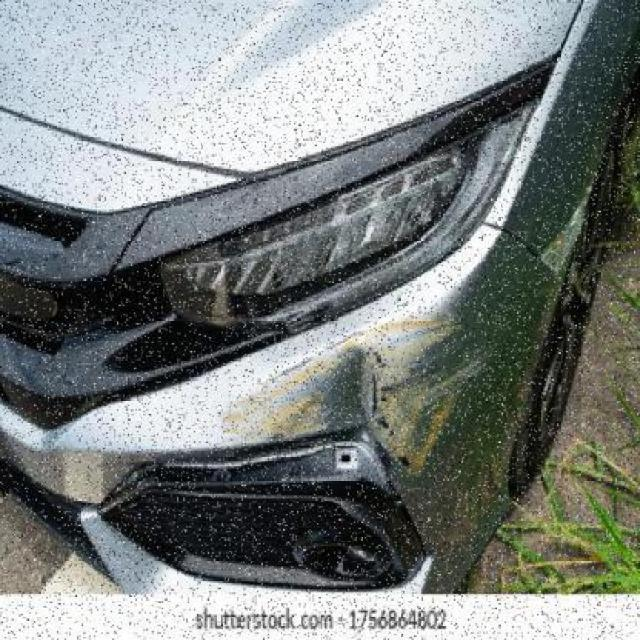front-bumper-dent: (29, 303, 530, 575)
